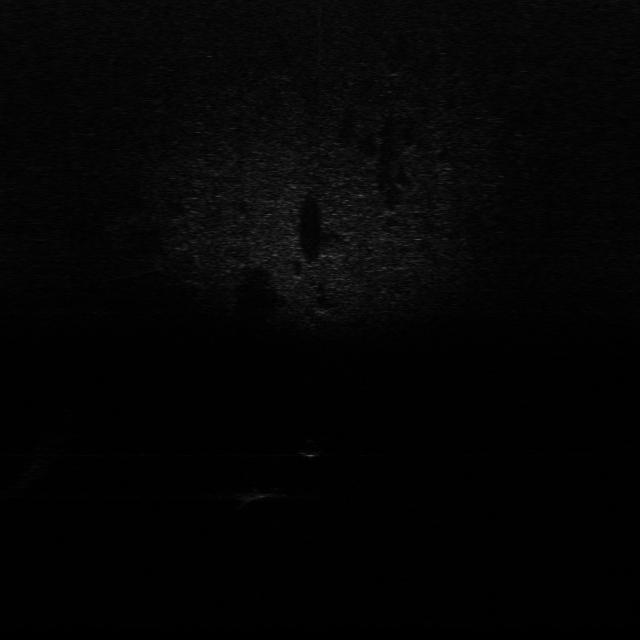ball: (297, 436, 328, 461)
square cage: (231, 482, 293, 503)
